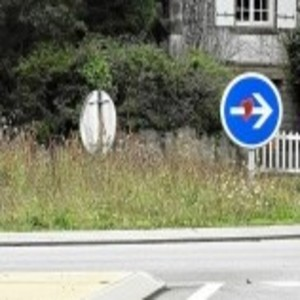trun_right: (218, 70, 283, 151)
